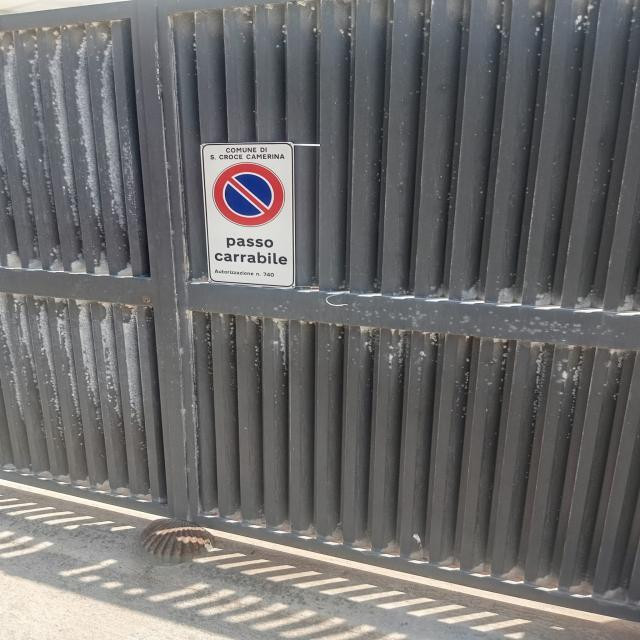forb_stopping: (212, 162, 287, 228)
